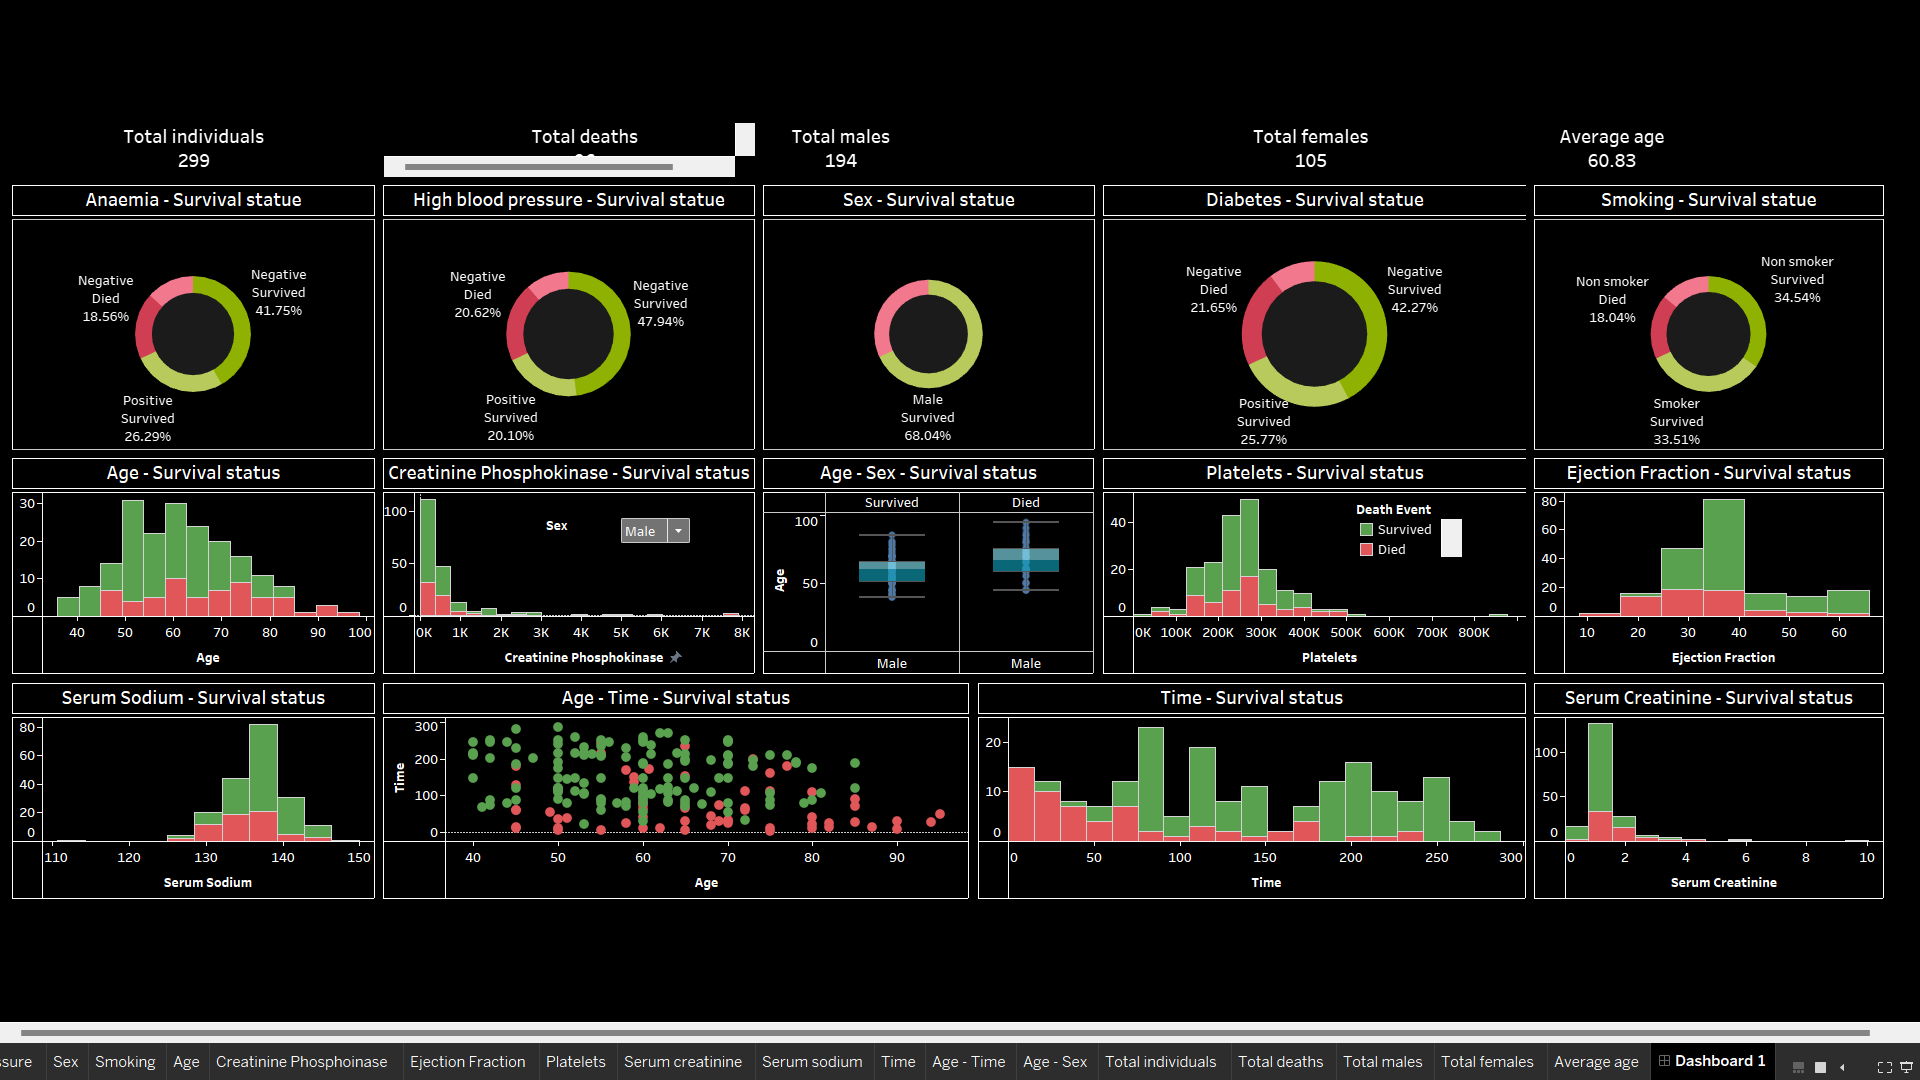

What the dashboard file says about the page in this screenshot:
{"tool":"tableau","page":{"name":"Dashboard 1","canvas":[1950,800],"ordinal":0},"visuals":[{"type":"worksheet","title":"Total individuals","mark":"Automatic","box":[8,8,371.7,62.2]},{"type":"worksheet","title":"Total deaths","mark":"Automatic","box":[379.7,8,379.5,62.2]},{"type":"worksheet","title":"Total males","mark":"Automatic","box":[759.2,8,339.1,62.2]},{"type":"worksheet","title":"Total females","mark":"Automatic","box":[1098.4,8,431.8,62.2]},{"type":"worksheet","title":"Average age","mark":"Automatic","box":[1530.2,8,357.8,62.2]},{"type":"worksheet","title":"Anaemia","mark":"Pie","rows":["Calculation_1207246183955316737","Calculation_1207246183955316737"],"box":[8,70.2,371,273]},{"type":"worksheet","title":"High blood pressure","mark":"Pie","rows":["Calculation_1207246183955316737","Calculation_1207246183955316737"],"box":[379,70.2,380,273]},{"type":"worksheet","title":"Sex","mark":"Pie","rows":["Calculation_1207246183955316737","Calculation_1207246183955316737"],"box":[759,70.2,339.5,273]},{"type":"worksheet","title":"Diabetes","mark":"Pie","rows":["Calculation_1207246183955316737","Calculation_1207246183955316737"],"box":[1098.5,70.2,431.7,273]},{"type":"worksheet","title":"Smoking","mark":"Pie","rows":["Calculation_1207246183955316737","Calculation_1207246183955316737"],"box":[1530.2,70.2,357.8,273]},{"type":"worksheet","title":"Age","mark":"Automatic","rows":["age"],"cols":["Age (bin)"],"box":[8,343.1,371.4,224.4]},{"type":"worksheet","title":"Creatinine Phosphoinase","mark":"Automatic","rows":["creatinine_phosphokinase"],"cols":["Creatinine Phosphokinase (bin)"],"box":[379.4,343.1,379.9,224.4]},{"type":"worksheet","title":"Age - Sex","mark":"Circle","rows":["age"],"cols":["DEATH_EVENT","sex"],"box":[759.3,343.1,339.2,224.4]},{"type":"worksheet","title":"Platelets","mark":"Automatic","rows":["platelets"],"cols":["Platelets (bin)"],"box":[1098.5,343.1,431.7,224.4]},{"type":"worksheet","title":"Ejection Fraction","mark":"Automatic","rows":["ejection_fraction"],"cols":["Ejection Fraction (bin)"],"box":[1530.2,343.1,357.8,224.4]},{"type":"legend","title":"Age","param":"[federated.1ssfwo80651tg4110z9r20jiveet].[none:DEATH_EVENT:ok]","box":[1355.5,389,107.5,57]},{"type":"filter","title":"Age - Sex","param":"[federated.1ssfwo80651tg4110z9r20jiveet].[none:sex:ok]","box":[546,404,146.5,34]},{"type":"worksheet","title":"Serum sodium","mark":"Automatic","rows":["serum_sodium"],"cols":["Serum Sodium (bin)"],"box":[8,567.5,371.4,224.5]},{"type":"worksheet","title":"Age - Time","mark":"Automatic","rows":["time"],"cols":["age"],"box":[379.4,567.5,594.4,224.5]},{"type":"worksheet","title":"Time","mark":"Automatic","rows":["time"],"cols":["Time (bin)"],"box":[973.8,567.5,556.4,224.5]},{"type":"worksheet","title":"Serum creatinine","mark":"Automatic","rows":["serum_creatinine"],"cols":["Serum Creatinine (bin)"],"box":[1530.2,567.5,357.8,224.5]}]}

Visuals, with their boxes in screenshot pixels (x1, y1, x2, y2):
"Total individuals" worksheet: locate(0, 143, 372, 206)
"Total deaths" worksheet: locate(372, 143, 754, 206)
"Total males" worksheet: locate(754, 143, 1096, 206)
"Total females" worksheet: locate(1096, 143, 1530, 206)
"Average age" worksheet: locate(1530, 143, 1891, 206)
"Anaemia" worksheet (Pie marks): locate(0, 206, 372, 480)
"High blood pressure" worksheet (Pie marks): locate(372, 206, 754, 480)
"Sex" worksheet (Pie marks): locate(754, 206, 1096, 480)
"Diabetes" worksheet (Pie marks): locate(1096, 206, 1530, 480)
"Smoking" worksheet (Pie marks): locate(1530, 206, 1891, 480)
"Age" worksheet: locate(0, 480, 372, 706)
"Creatinine Phosphoinase" worksheet: locate(372, 480, 754, 706)
"Age - Sex" worksheet (Circle marks): locate(754, 480, 1096, 706)
"Platelets" worksheet: locate(1096, 480, 1530, 706)
"Ejection Fraction" worksheet: locate(1530, 480, 1891, 706)
"Age" legend: locate(1355, 527, 1463, 584)
"Age - Sex" filter: locate(540, 542, 687, 576)
"Serum sodium" worksheet: locate(0, 706, 372, 932)
"Age - Time" worksheet: locate(372, 706, 970, 932)
"Time" worksheet: locate(970, 706, 1530, 932)
"Serum creatinine" worksheet: locate(1530, 706, 1891, 932)
